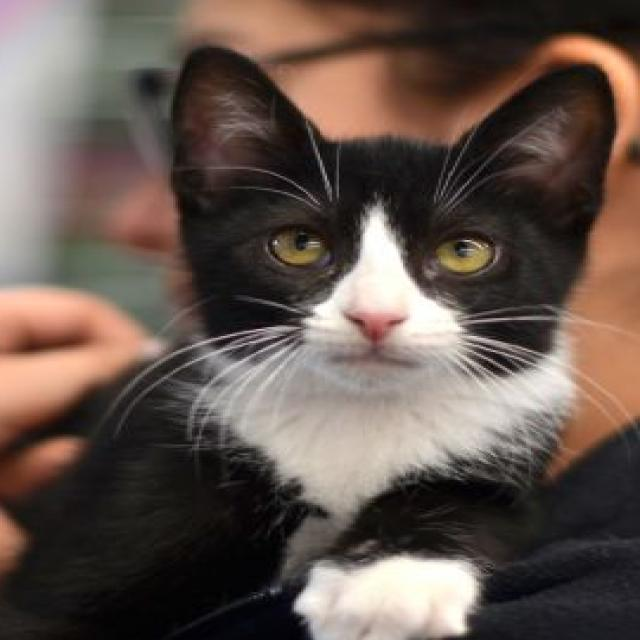Tuxedo: (0, 41, 626, 640)
